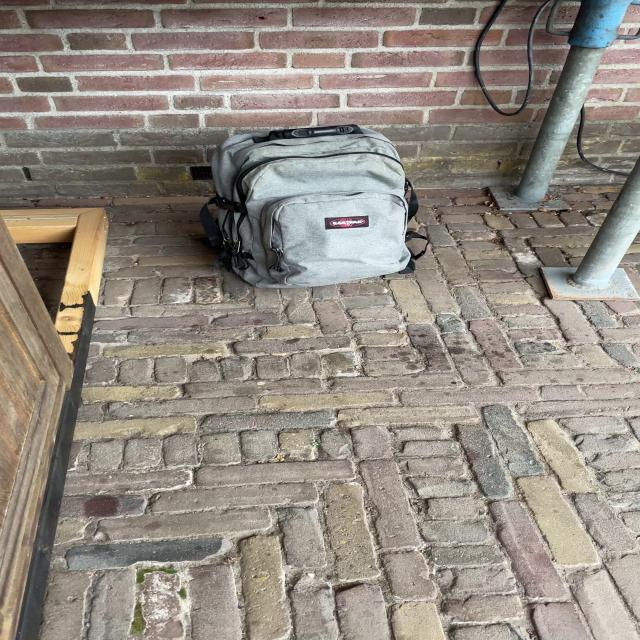backpack: (190, 116, 430, 292)
